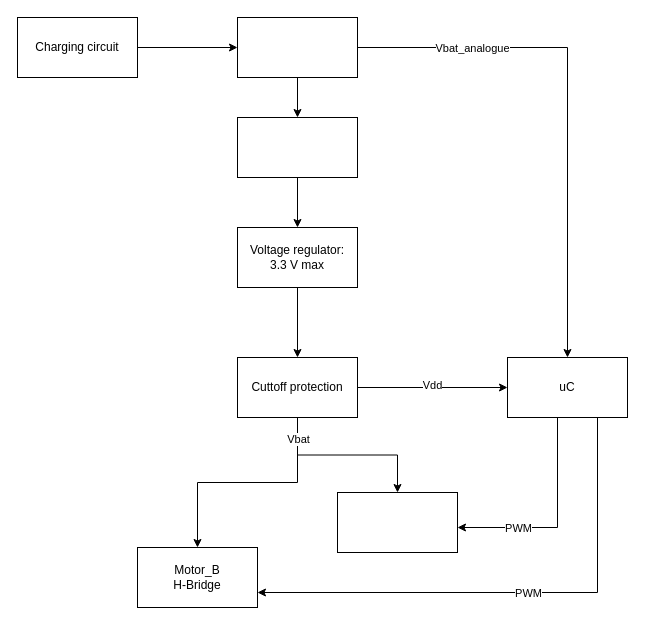
Image size: 645x625. Some labels were removed from this diagram. Here are the shapes that lost their labels. From the top down, the box of each, then its label:
(236, 16, 358, 78): Batt
(236, 116, 358, 178): Switch
(336, 492, 458, 552): Motor_A H-Bridge
